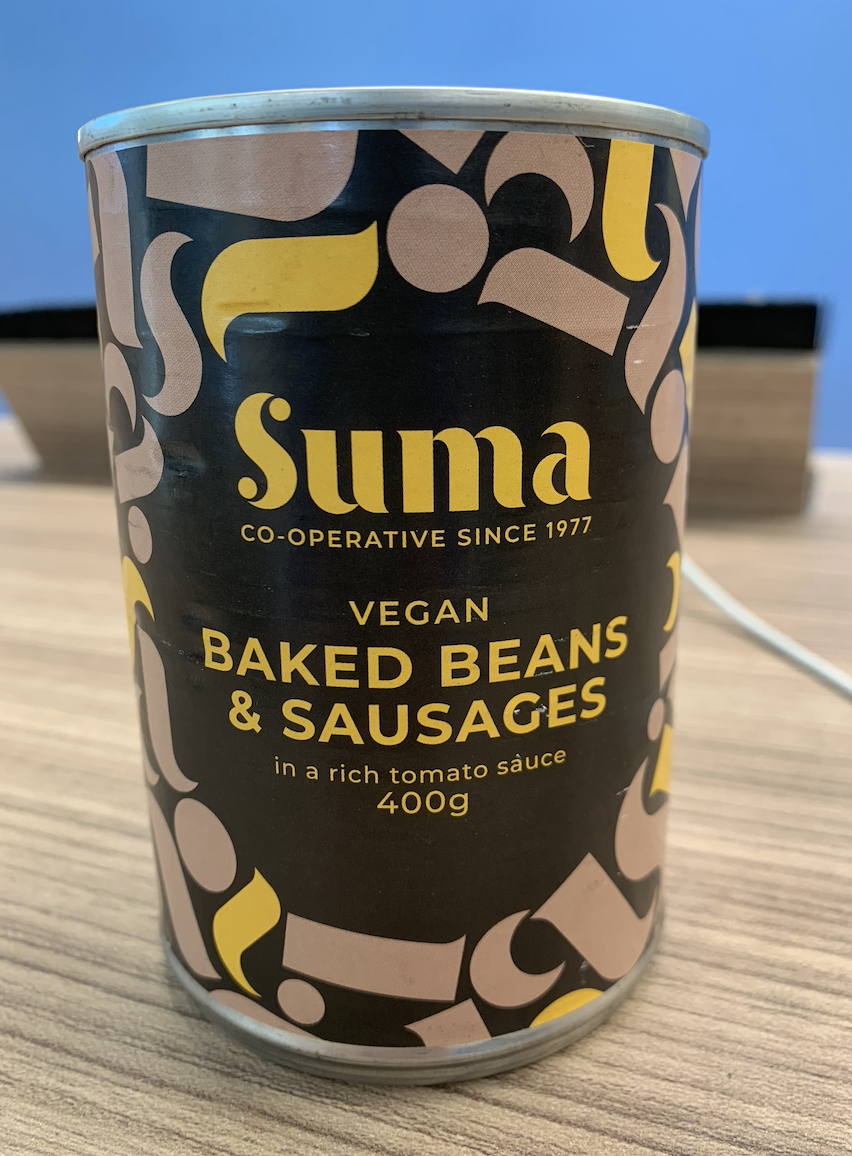Baked beans_450g: (143, 179, 668, 1006)
